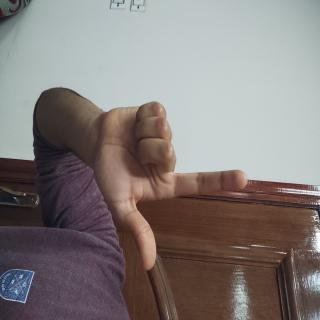LAAM: (68, 89, 210, 316)
